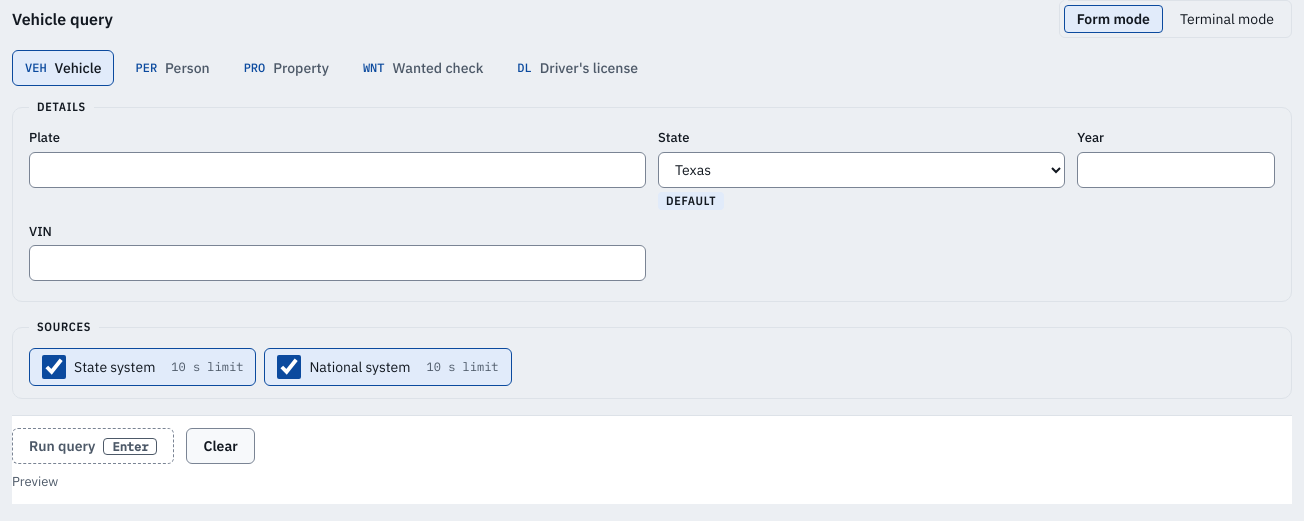
Test: BR-001 / ADR-0011 query panel view renders from an injected config › #382 W4 a site with no commands gets a hint without an example
This screenshot has width=1304, height=521.
Step 1. Click the button "Terminal mode" → point(1227, 19), box [1167, 5, 1287, 33]
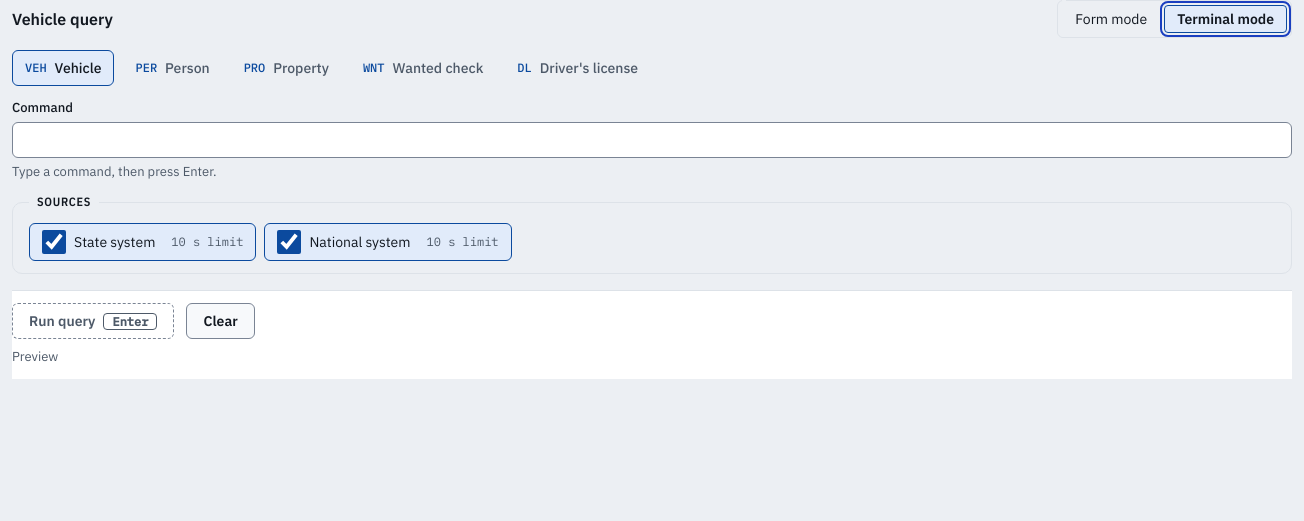
Check: the text "Type a command, then press Enter." is shown, box [12, 162, 216, 180]
